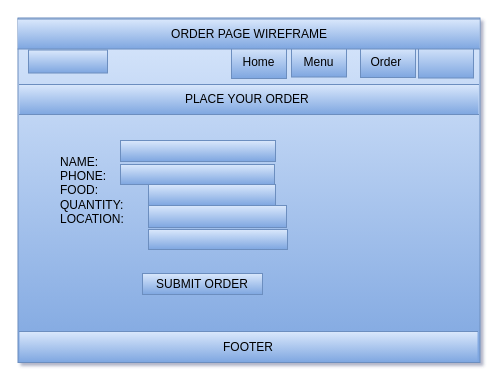
Some shapes in this 503 by 386 pixel diagram are drawn without their labels. Here are the shapes that lost their labels. From the top down, the box of each, then its label:
(28, 49, 108, 73): Campus Bites
(418, 44, 474, 78): Contact
